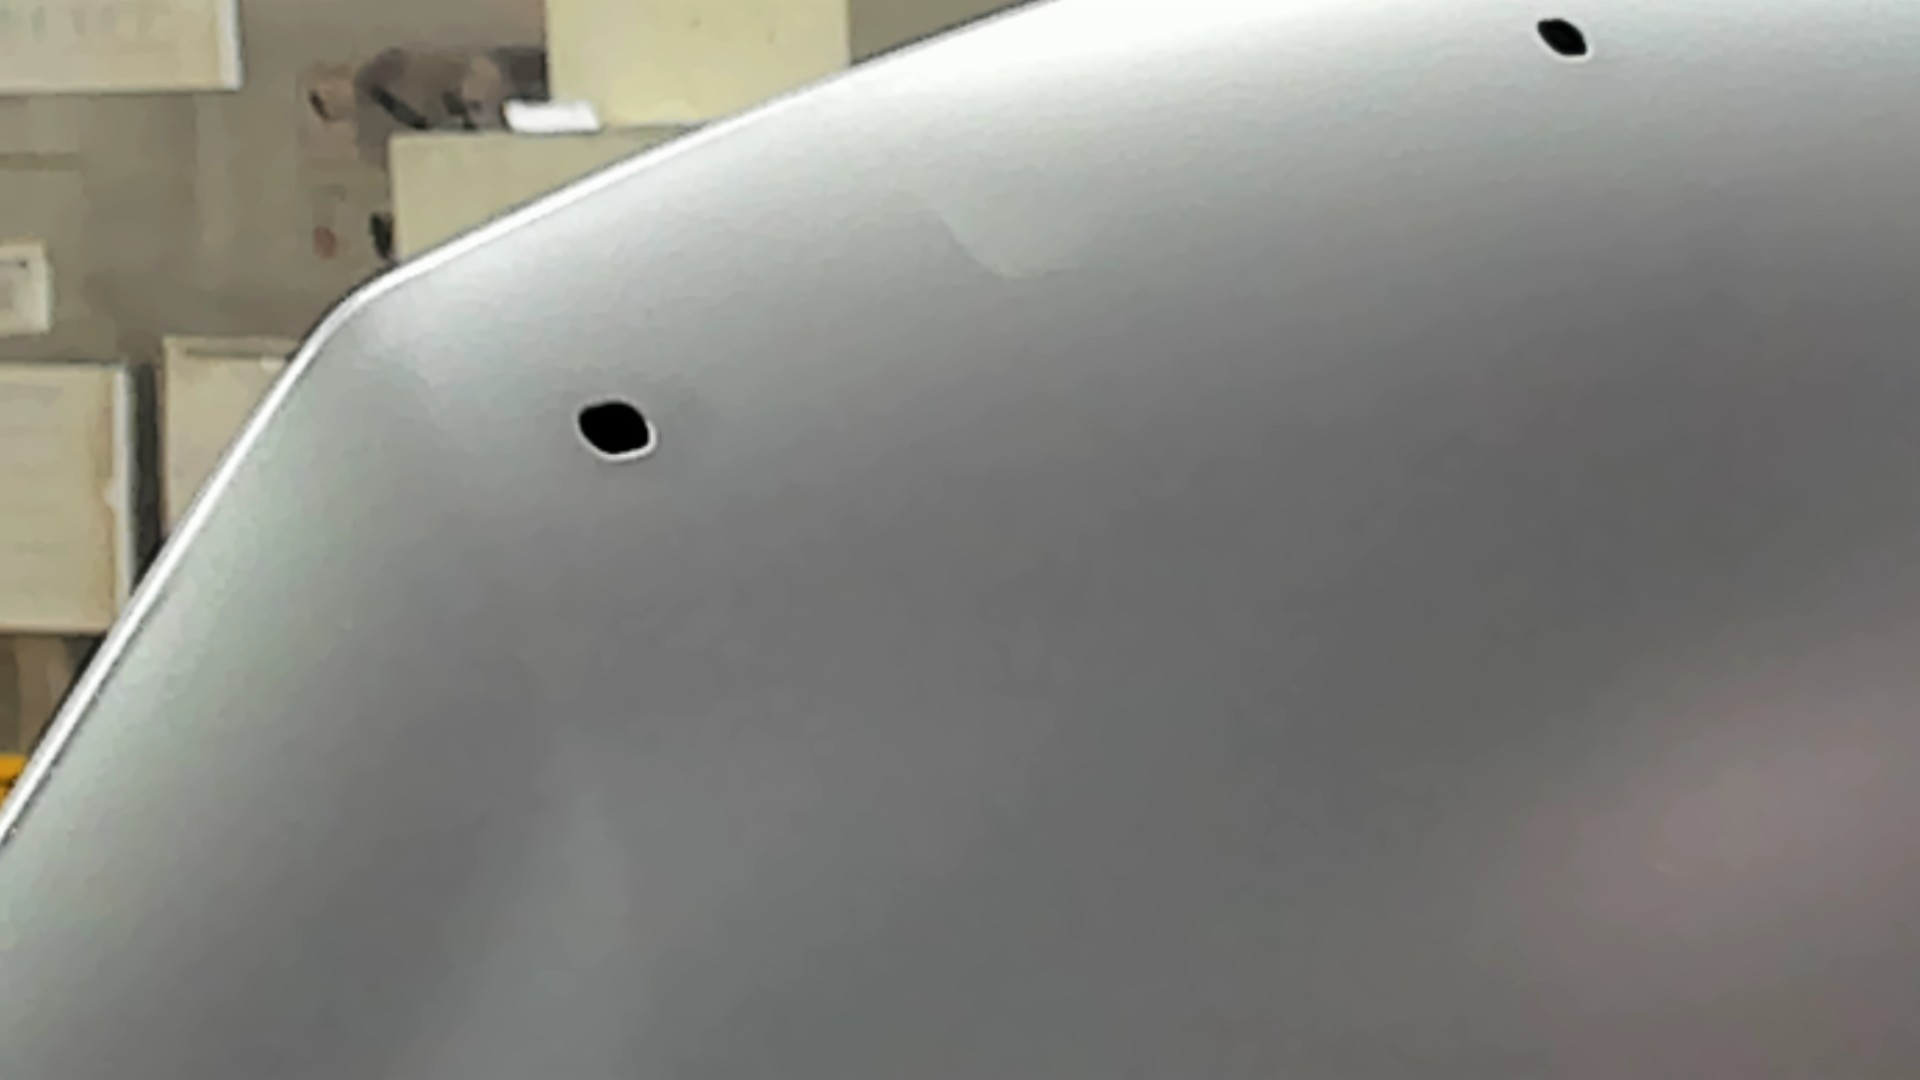amorfo: (570, 392, 659, 469), (1532, 15, 1596, 63)
